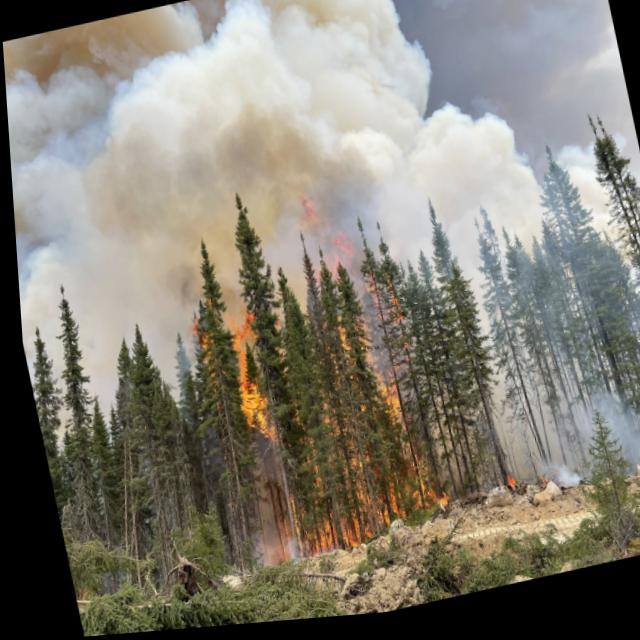Fire: (240, 272, 448, 570), (181, 292, 283, 466)
